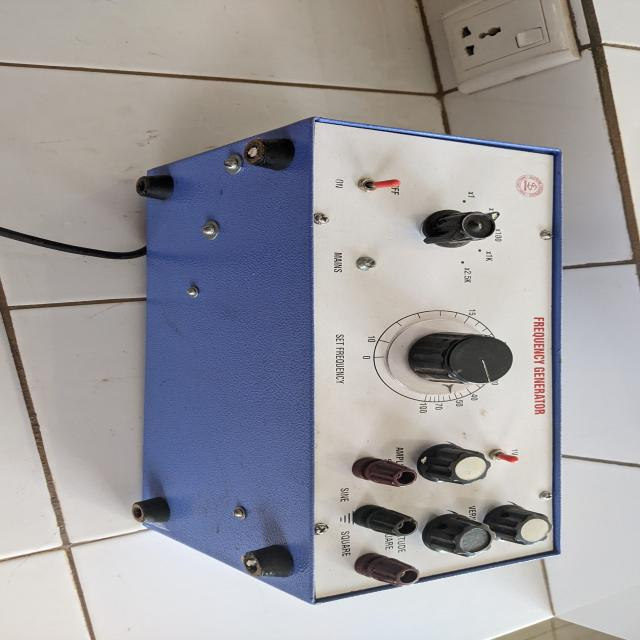Analog Frequency Generator: (113, 110, 600, 610)
